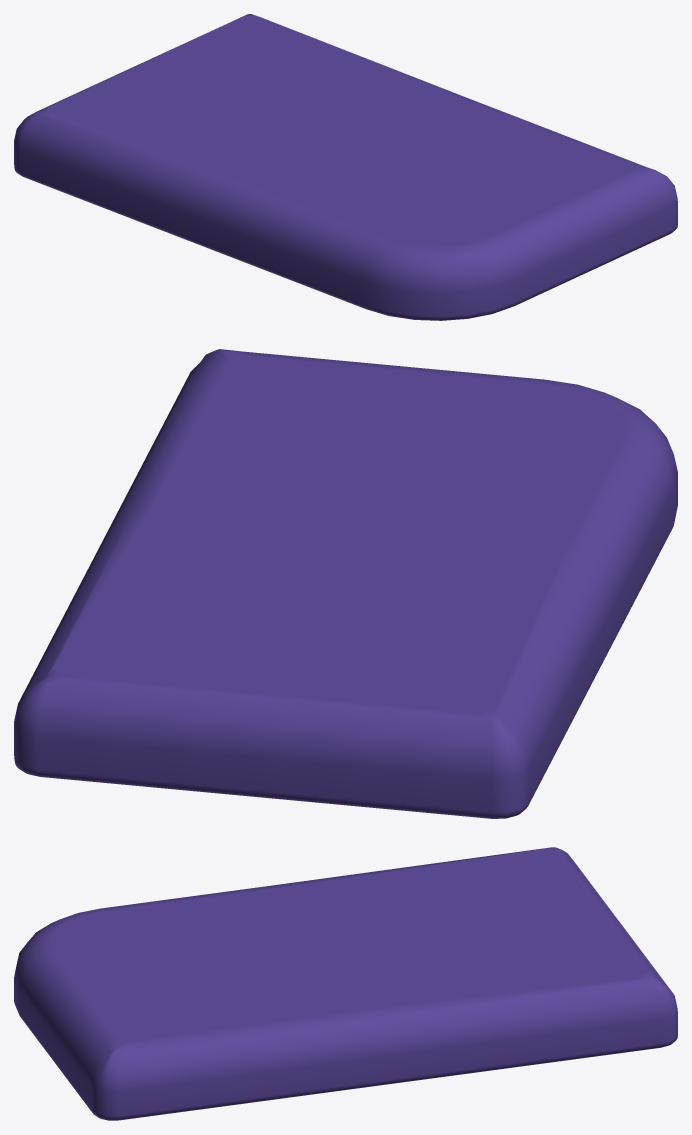
Rendered from Gameboy.glb.
The picture shows the model from 3 angles, top to bottom: view 1: azimuth 30°, elevation 25°; view 2: azimuth 150°, elevation 25°; view 3: azimuth 270°, elevation 25°; orthographic projection. The views are drawn at different scales.
Parts seen in each view (by area): view 1: Gameboy; view 2: Gameboy; view 3: Gameboy.
Part boxes in pixels (box(x1,y1,x2,y2)): Gameboy: box(14, 14, 677, 320); Gameboy: box(14, 349, 677, 818); Gameboy: box(14, 847, 677, 1120).
Bounding box in the file's own units: 0.1276 × 0.019 × 0.1599.
